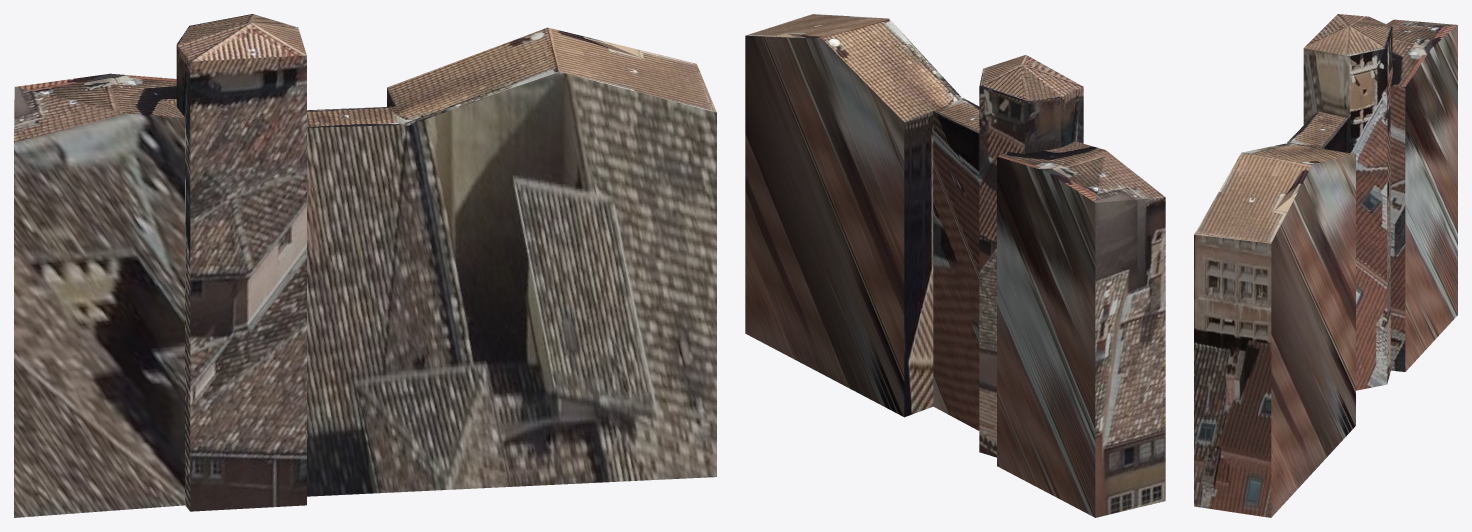
3 renders of one model, left to right at view 1: azimuth 30°, elevation 25°; view 2: azimuth 150°, elevation 25°; view 3: azimuth 270°, elevation 25°, orthographic. The views are drawn at different scales.
Parts seen in each view (by area): view 1: Z_UP; view 2: Z_UP; view 3: Z_UP.
Part boxes in pixels (x1,y1,x2,y2): Z_UP: (14, 14, 716, 517); Z_UP: (745, 14, 1165, 517); Z_UP: (1194, 14, 1457, 517).
Size of the model in its own units: 29.84 by 22.15 by 15.21.
Materials: 2 (1 with a texture image).
